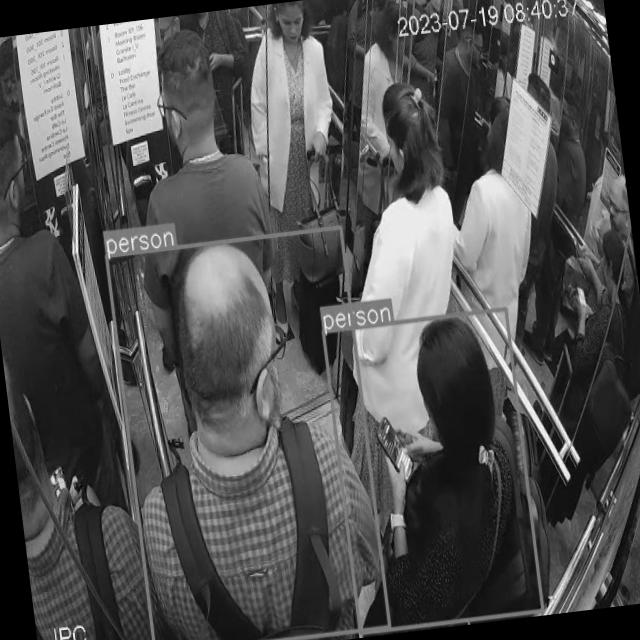person: (113, 233, 390, 640), (322, 307, 546, 638), (330, 83, 494, 484), (0, 108, 136, 520), (0, 316, 163, 640), (113, 16, 281, 270), (252, 0, 363, 343), (515, 211, 640, 510)
